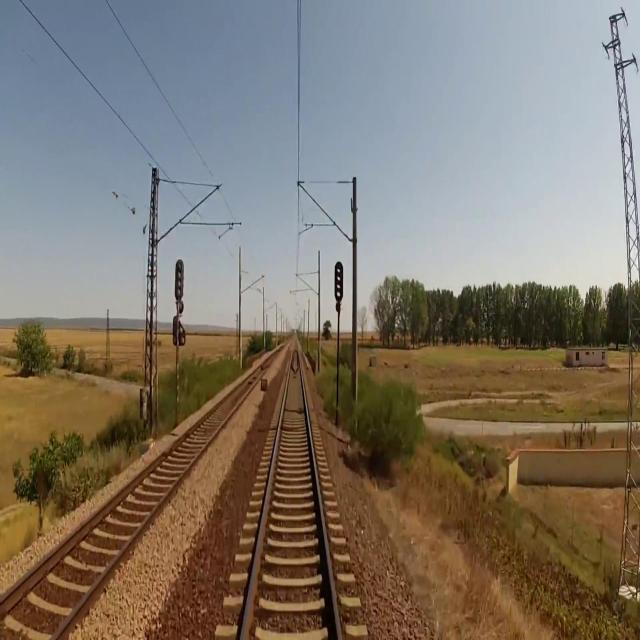rail-track: (0, 360, 270, 639), (245, 370, 337, 639)
